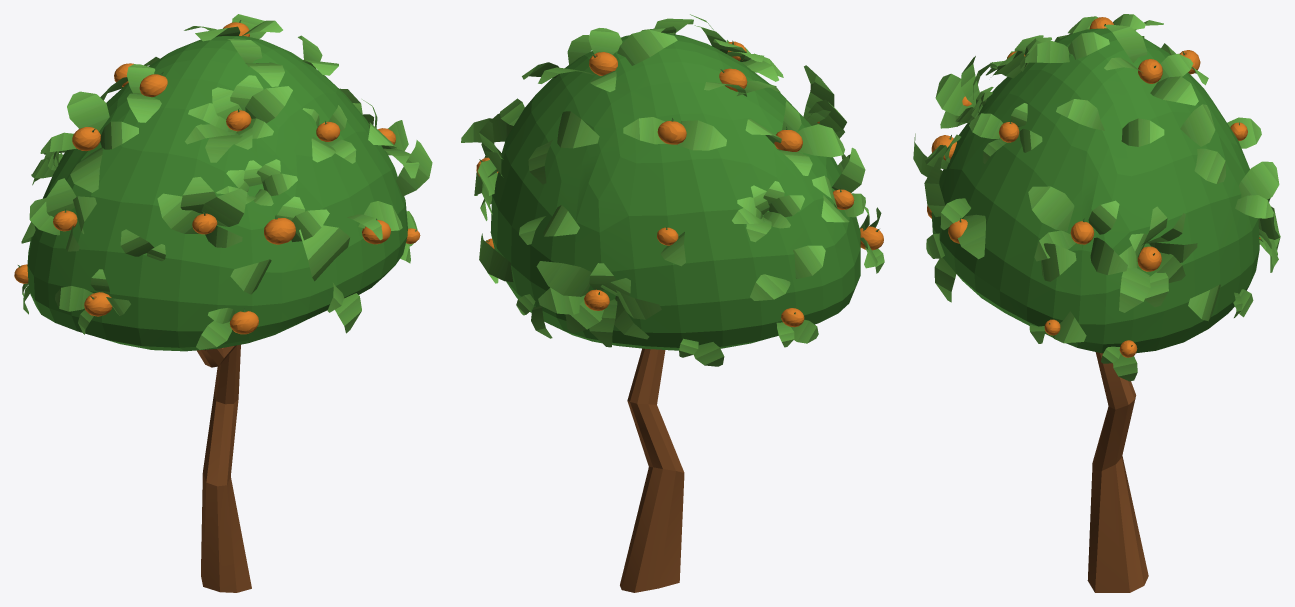
File: orange_tree.glb
3 views of the same model, side by side, from view 1: azimuth 30°, elevation 25°; view 2: azimuth 150°, elevation 25°; view 3: azimuth 270°, elevation 25° (orthographic).
Parts seen in each view (by area): view 1: orange_tree; view 2: orange_tree; view 3: orange_tree.
Part boxes in pixels (left/top/right/bottom): orange_tree: left=14, top=14, right=432, bottom=592; orange_tree: left=461, top=14, right=884, bottom=592; orange_tree: left=913, top=14, right=1280, bottom=592.
Bounding box in the file's own units: 4.53 × 6.36 × 3.82.
5 materials, 1 textured.
